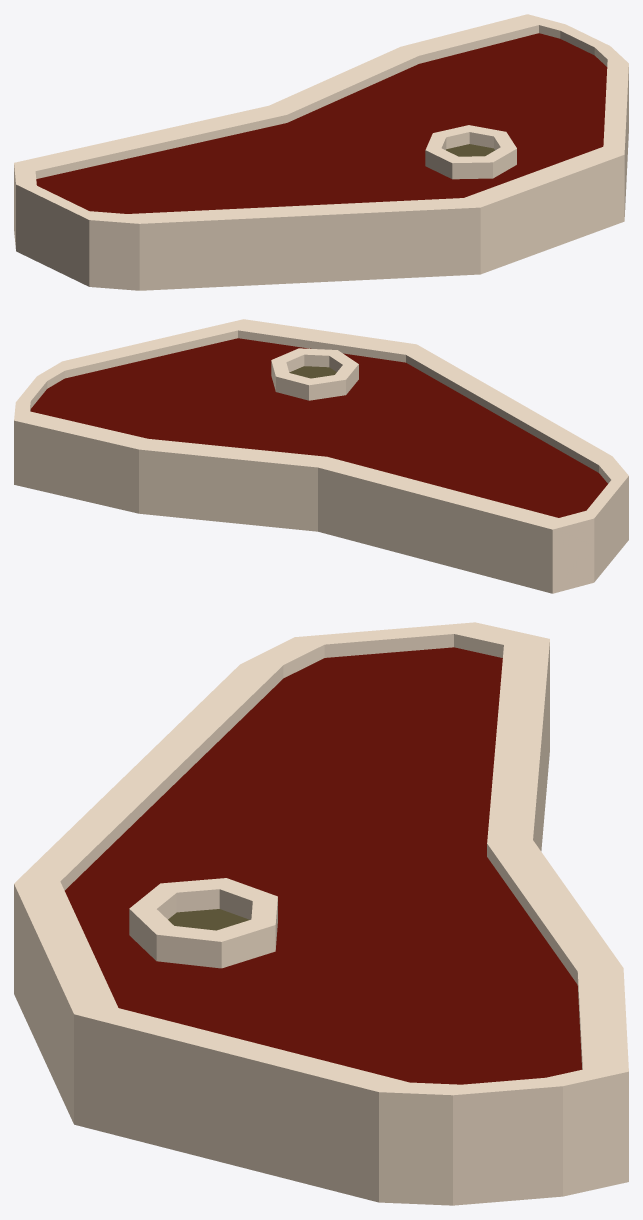
The model's file is Steak.fbx.
The picture shows the model from 3 angles, top to bottom: view 1: azimuth 30°, elevation 25°; view 2: azimuth 150°, elevation 25°; view 3: azimuth 270°, elevation 25°; orthographic projection. The views are drawn at different scales.
Visible parts, largest first — view 1: Cube.001; view 2: Cube.001; view 3: Cube.001.
Boxes of the visible parts, <box> form: Cube.001: <box>14,14,628,290</box>; Cube.001: <box>14,319,628,593</box>; Cube.001: <box>14,622,628,1205</box>.
Bounding box in the file's own units: 398 × 51.37 × 219.
